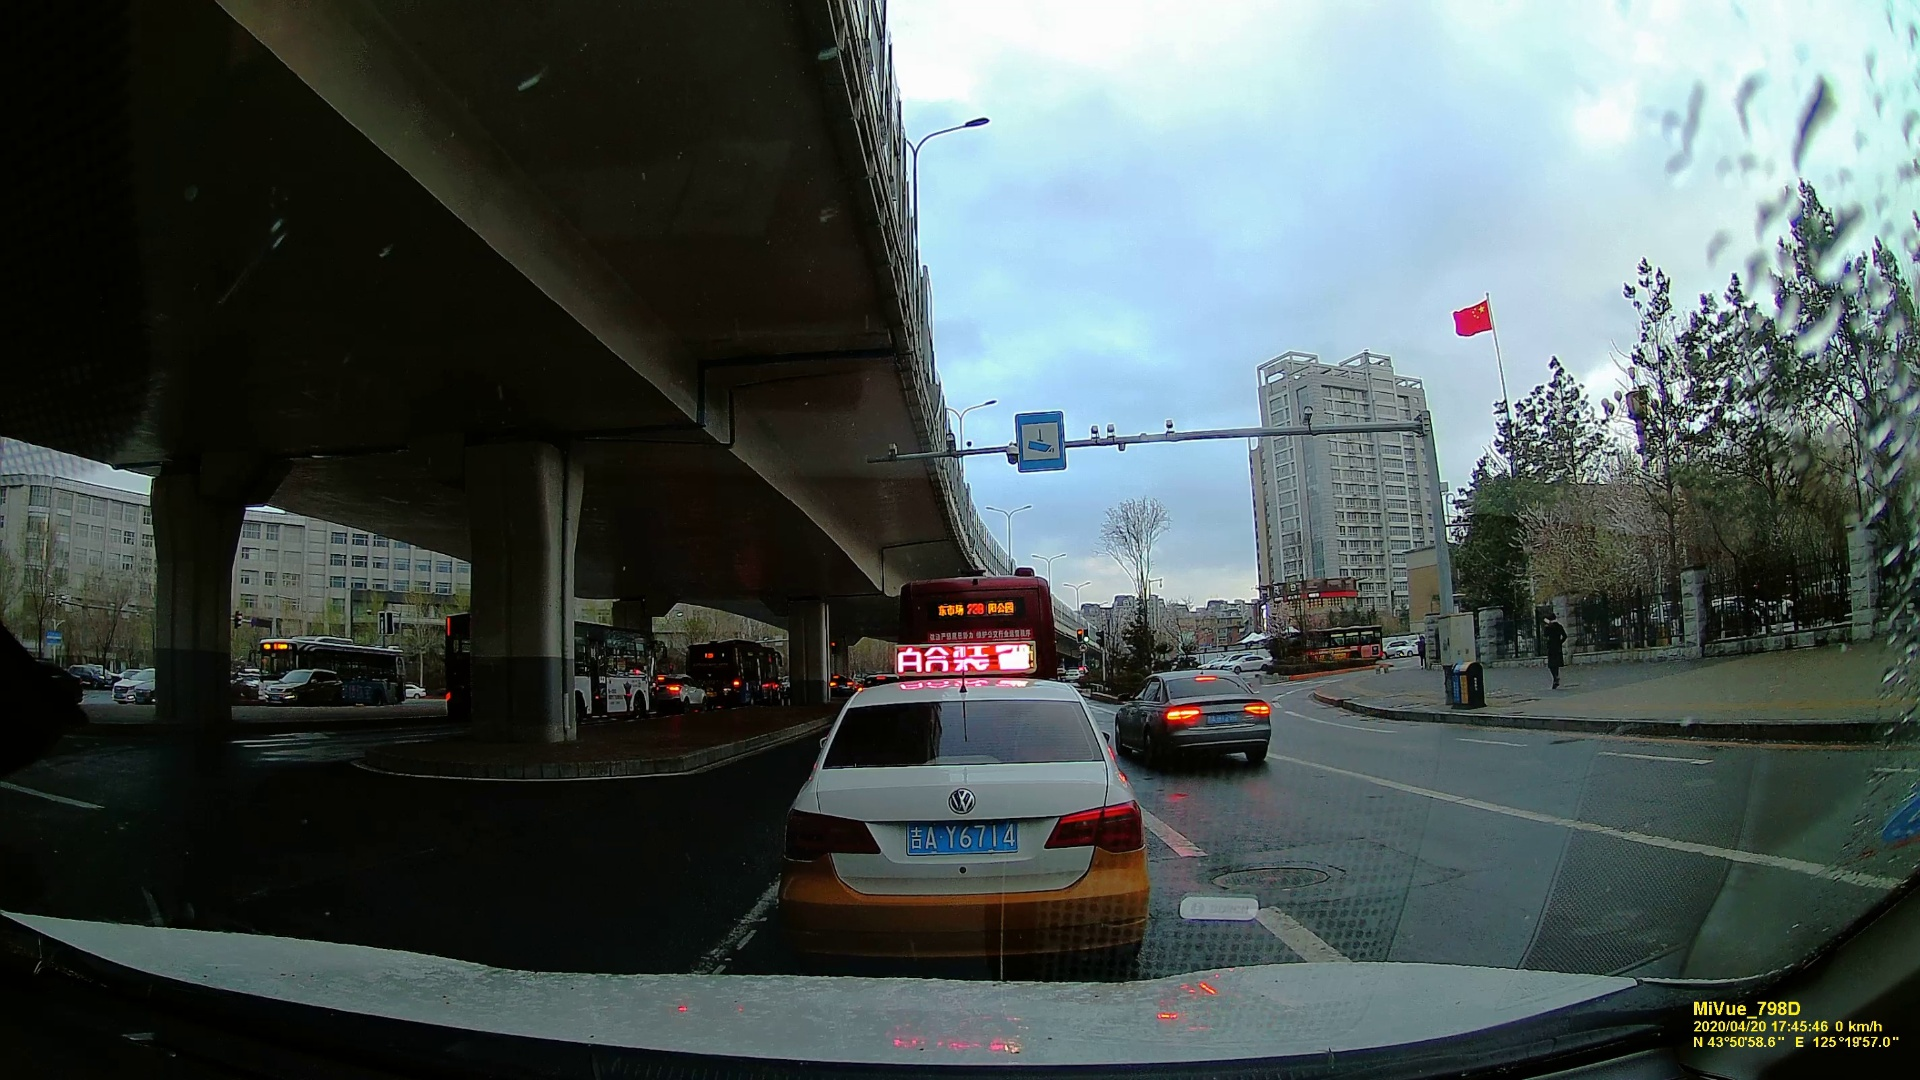bus: (444, 616, 644, 728), (899, 575, 1051, 678), (248, 638, 408, 710), (1276, 630, 1382, 666)
person: (1538, 614, 1568, 692)
traffic_sign: (1012, 409, 1070, 471)
vehicle: (781, 666, 1152, 943), (1116, 667, 1277, 768), (107, 669, 149, 701)
